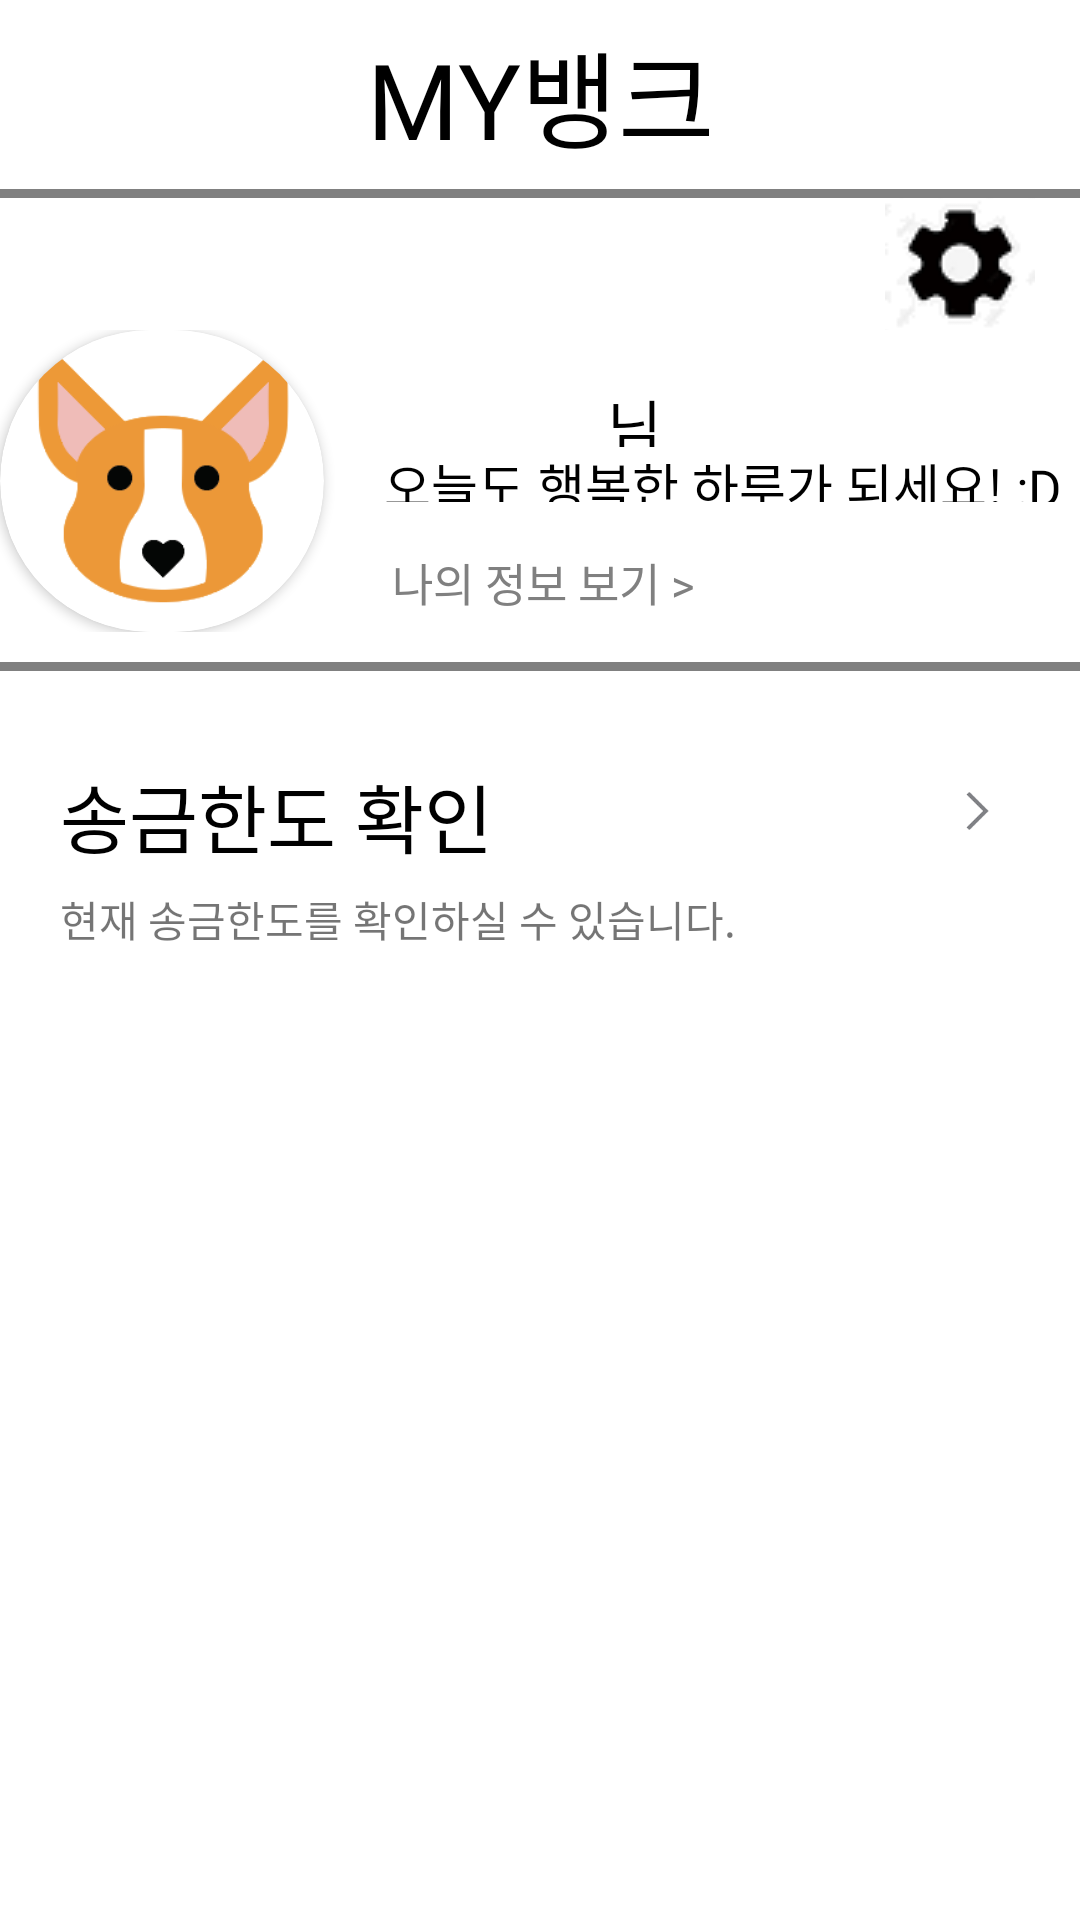

Screen size 1080*1920. Icon name, then its center in pixels as (x,y):
mybank arrow: (978,811)
mybank setting: (961,264)
